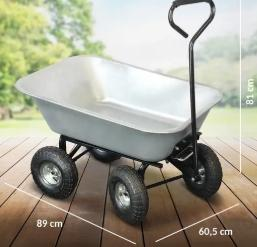BROUETTE: (14, 0, 238, 225)
